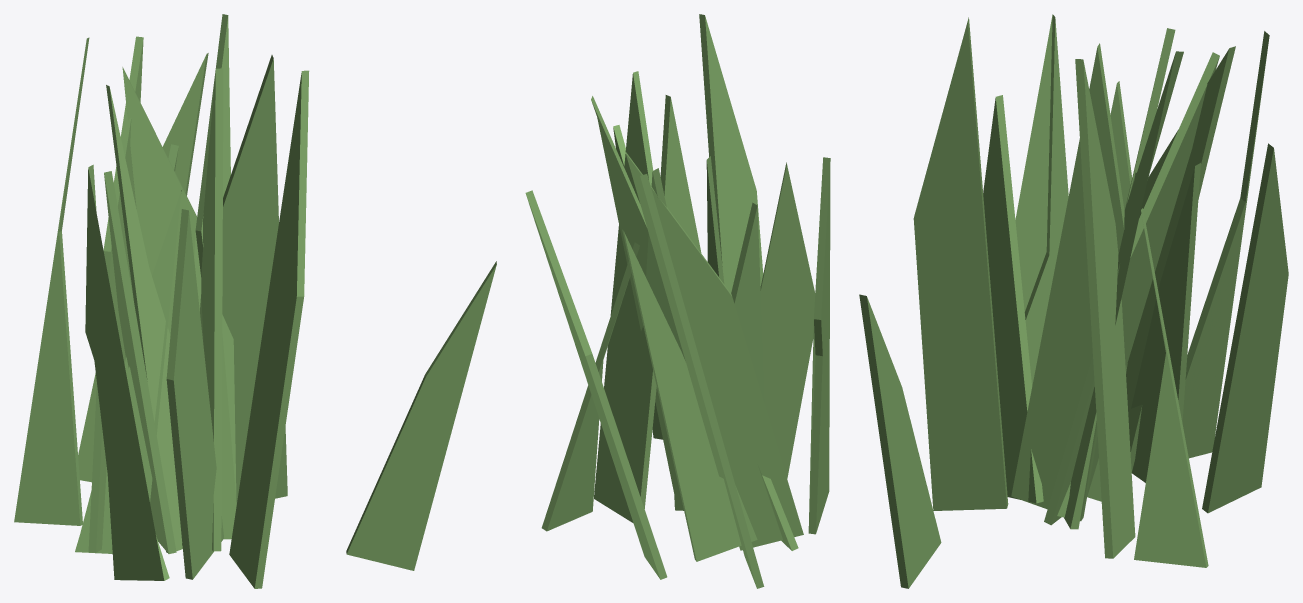
File: sm_env_forest_grass_clump.glb
The picture shows the model from 3 angles, left to right: view 1: azimuth 30°, elevation 25°; view 2: azimuth 150°, elevation 25°; view 3: azimuth 270°, elevation 25°; orthographic projection. The views are drawn at different scales.
Visible parts, largest first — view 1: GrassBlade.003, GrassBlade.001, GrassBlade.005, GrassBlade.012, GrassBlade.011, GrassBlade.002, GrassBlade.007, GrassBlade.009, GrassBlade.006, GrassBlade.004, GrassBlade.008, GrassBlade (+2 smaller); view 2: GrassBlade.008, GrassBlade.013, GrassBlade.001, GrassBlade.002, GrassBlade.003, GrassBlade.012, GrassBlade.015, GrassBlade.014, GrassBlade.011, GrassBlade.010, GrassBlade.004, GrassBlade.006 (+4 smaller); view 3: GrassBlade.003, GrassBlade.006, GrassBlade.015, GrassBlade.001, GrassBlade.002, GrassBlade.012, GrassBlade.005, GrassBlade.014, GrassBlade.007, GrassBlade.011, GrassBlade.013, GrassBlade.008 (+3 smaller).
Part boxes in pixels (<box>): GrassBlade.003: <box>229,70,309,588</box>; GrassBlade.001: <box>222,55,287,504</box>; GrassBlade.005: <box>346,261,496,570</box>; GrassBlade.012: <box>85,164,169,580</box>; GrassBlade.011: <box>14,37,89,525</box>; GrassBlade.002: <box>166,209,223,579</box>; GrassBlade.007: <box>122,67,236,539</box>; GrassBlade.009: <box>106,85,182,552</box>; GrassBlade.006: <box>201,68,223,551</box>; GrassBlade.004: <box>104,171,176,553</box>; GrassBlade.008: <box>88,36,143,552</box>; GrassBlade: <box>75,190,181,553</box>; GrassBlade.008: <box>625,151,803,550</box>; GrassBlade.013: <box>622,229,757,561</box>; GrassBlade.001: <box>594,71,656,522</box>; GrassBlade.002: <box>760,162,815,478</box>; GrassBlade.003: <box>699,14,763,292</box>; GrassBlade.012: <box>808,157,830,534</box>; GrassBlade.015: <box>525,190,667,579</box>; GrassBlade.014: <box>541,242,639,531</box>; GrassBlade.011: <box>640,174,764,588</box>; GrassBlade.010: <box>591,96,683,510</box>; GrassBlade.004: <box>731,202,764,403</box>; GrassBlade.006: <box>660,95,701,252</box>; GrassBlade.003: <box>913,17,1008,510</box>; GrassBlade.006: <box>1011,43,1124,521</box>; GrassBlade.015: <box>1202,143,1288,513</box>; GrassBlade.001: <box>1075,59,1135,558</box>; GrassBlade.002: <box>983,95,1043,503</box>; GrassBlade.012: <box>1015,14,1068,385</box>; GrassBlade.005: <box>859,294,941,588</box>; GrassBlade.014: <box>1134,208,1208,567</box>; GrassBlade.007: <box>1044,52,1219,525</box>; GrassBlade.011: <box>1182,31,1269,458</box>; GrassBlade.013: <box>1131,163,1200,482</box>; GrassBlade.008: <box>1126,46,1235,472</box>.
Size of the model in its own units: 0.3703 by 0.5447 by 0.4009.
